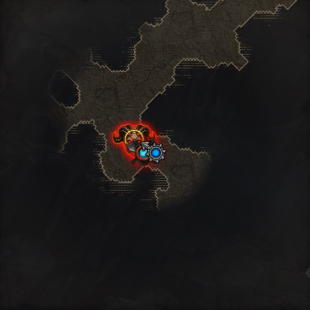Guardian: (113, 124, 156, 156)
